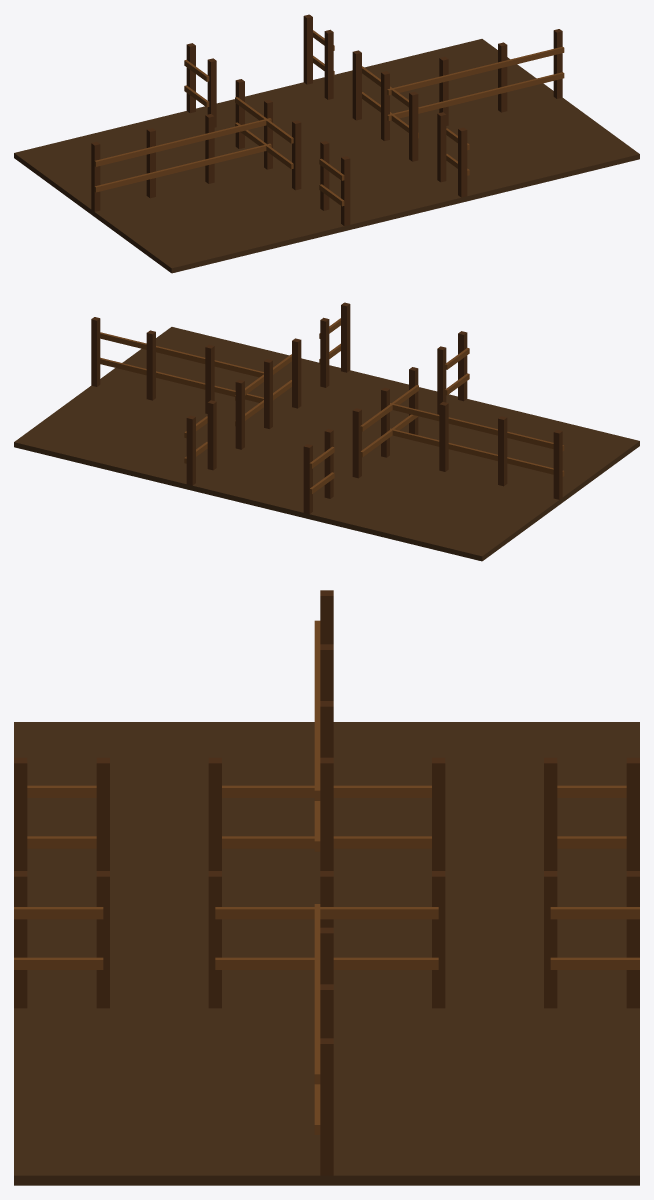
The model's file is vallas.obj.
3 renders of one model, top to bottom at view 1: azimuth 30°, elevation 25°; view 2: azimuth 150°, elevation 25°; view 3: azimuth 270°, elevation 25°, orthographic. The views are drawn at different scales.
Parts seen in each view (by area): view 1: Piso, Corral_Izq_Frente, Corral_Der_Frente, Corral_Der_Fondo, Corral_Izq_Fondo; view 2: Piso, Corral_Der_Frente, Corral_Izq_Frente, Corral_Izq_Fondo, Corral_Der_Fondo; view 3: Piso, Corral_Der_Frente, Corral_Izq_Frente, Corral_Der_Fondo, Corral_Izq_Fondo.
Part boxes in pixels (x1,y1,x2,y2): Piso: (14, 39, 639, 273); Corral_Izq_Frente: (91, 99, 350, 226); Corral_Der_Frente: (381, 29, 564, 197); Corral_Der_Fondo: (303, 14, 390, 120); Corral_Izq_Fondo: (184, 43, 265, 148); Piso: (14, 327, 639, 561); Corral_Der_Frente: (91, 302, 350, 428); Corral_Izq_Frente: (381, 331, 564, 499); Corral_Izq_Fondo: (303, 405, 390, 514); Corral_Der_Fondo: (184, 375, 263, 485); Piso: (14, 722, 639, 1185); Corral_Der_Frente: (14, 871, 333, 1175); Corral_Izq_Frente: (14, 590, 333, 870); Corral_Der_Fondo: (327, 871, 639, 1008); Corral_Izq_Fondo: (333, 757, 639, 870).
Size of the model in its own units: 9.6 by 1.4 by 5.6.
